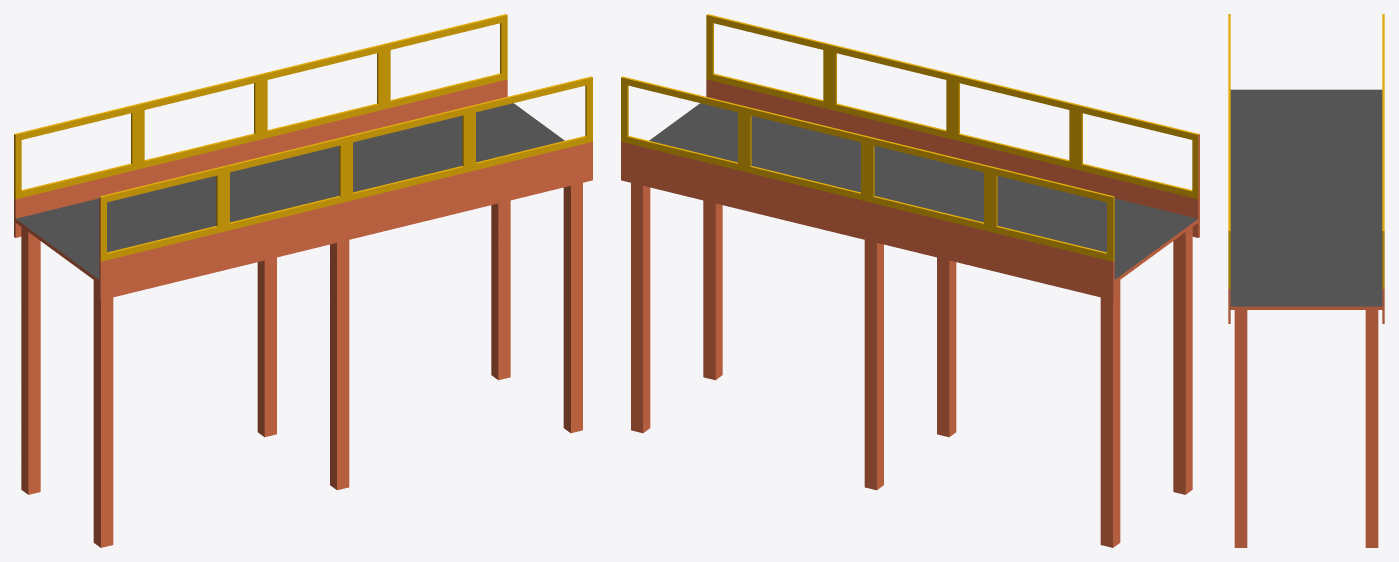
The model's file is Prop_Industrial_Platform_Walkway_Narrow_Straight_02.FBX.
The picture shows the model from 3 angles, left to right: view 1: azimuth 30°, elevation 25°; view 2: azimuth 150°, elevation 25°; view 3: azimuth 270°, elevation 25°; orthographic projection. The views are drawn at different scales.
Visible parts, largest first — view 1: Prop_Industrial_Platform_Walkway_Narrow_Straight_02; view 2: Prop_Industrial_Platform_Walkway_Narrow_Straight_02; view 3: Prop_Industrial_Platform_Walkway_Narrow_Straight_02.
Boxes of the visible parts, <box> form: Prop_Industrial_Platform_Walkway_Narrow_Straight_02: <box>14,14,592,547</box>; Prop_Industrial_Platform_Walkway_Narrow_Straight_02: <box>621,14,1199,547</box>; Prop_Industrial_Platform_Walkway_Narrow_Straight_02: <box>1228,14,1384,547</box>.
Size of the model in its own units: 8000 by 5500 by 2440.
